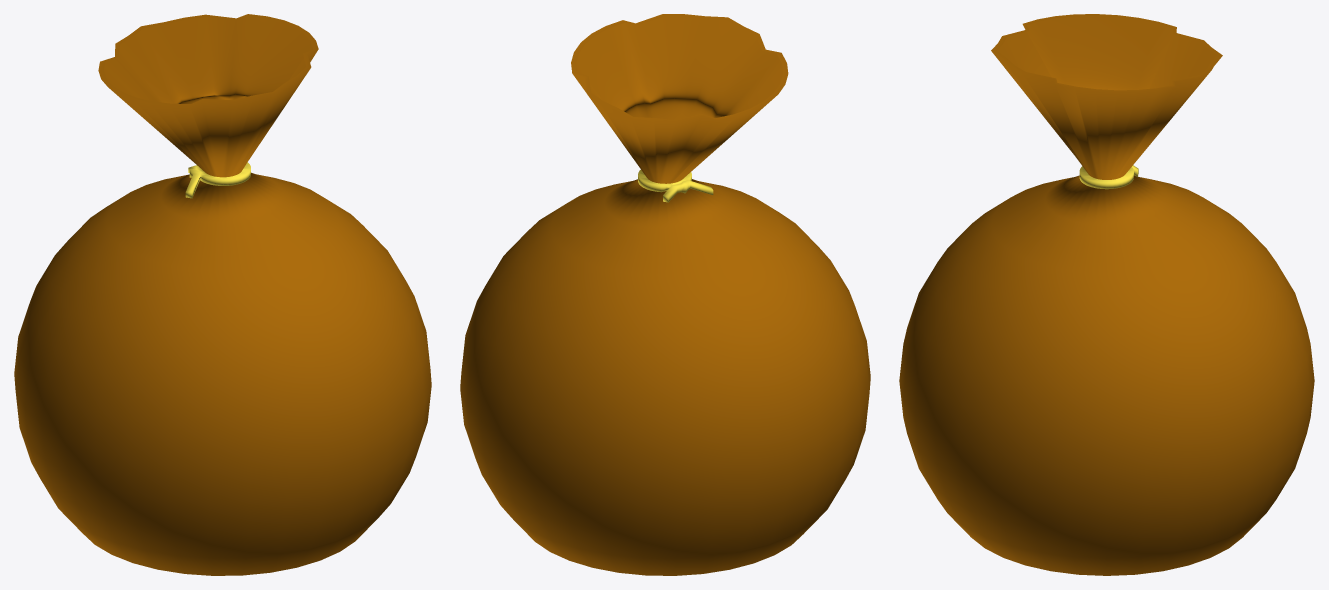
File: Pouch Low Poly.fbx
The picture shows the model from 3 angles, left to right: view 1: azimuth 30°, elevation 25°; view 2: azimuth 150°, elevation 25°; view 3: azimuth 270°, elevation 25°; orthographic projection.
Visible parts, largest first — view 1: Sphere; view 2: Sphere; view 3: Sphere.
Boxes of the visible parts, bbox=[...] form: Sphere: bbox=[14, 14, 431, 575]; Sphere: bbox=[460, 14, 870, 575]; Sphere: bbox=[899, 14, 1314, 575].
Bounding box in the file's own units: 50.54 × 66.39 × 50.54.
